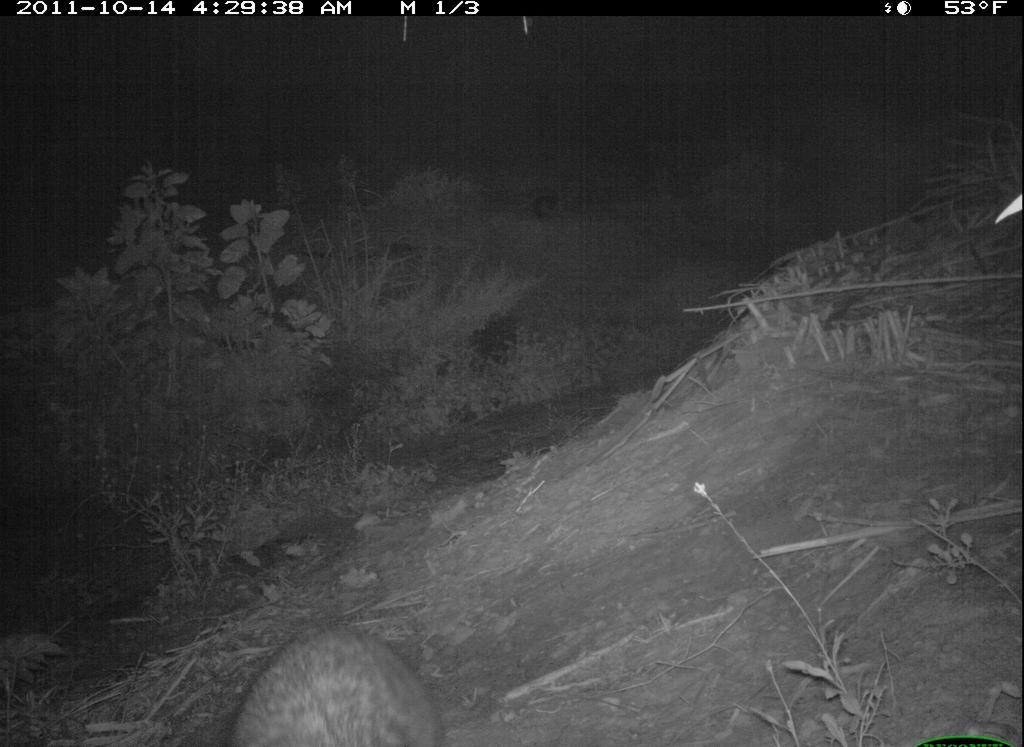raccoon: (227, 615, 450, 745)
